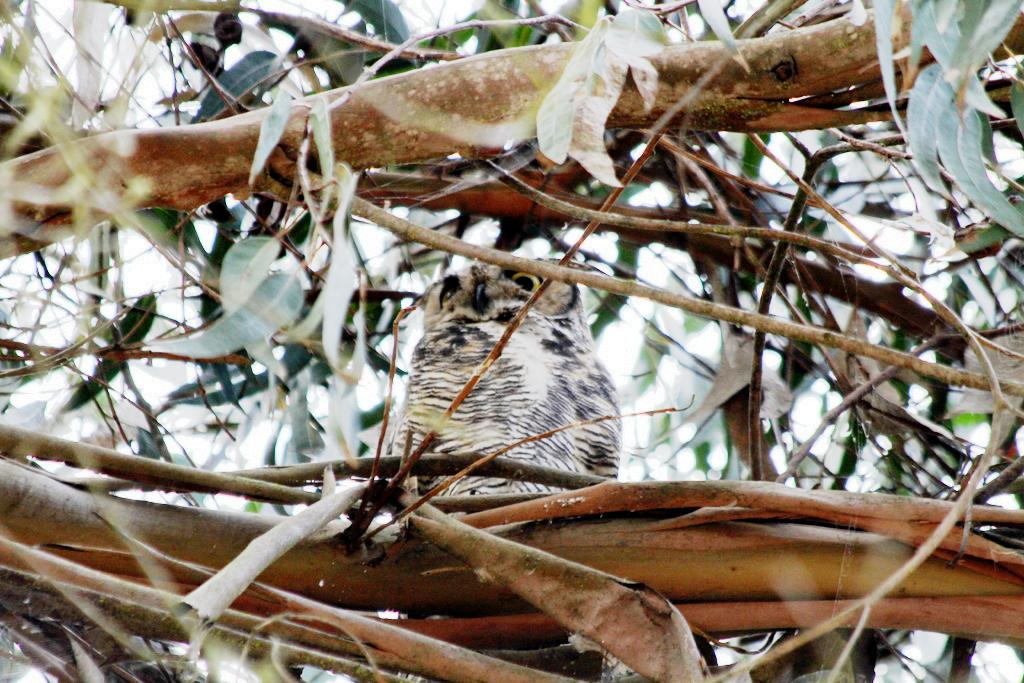Owl: (360, 242, 630, 540)
